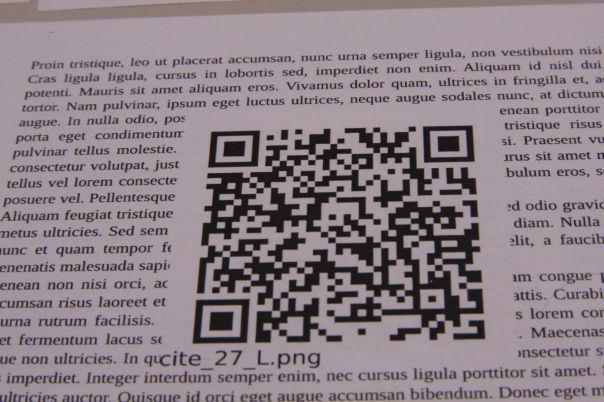qr_code: (193, 125, 486, 345)
